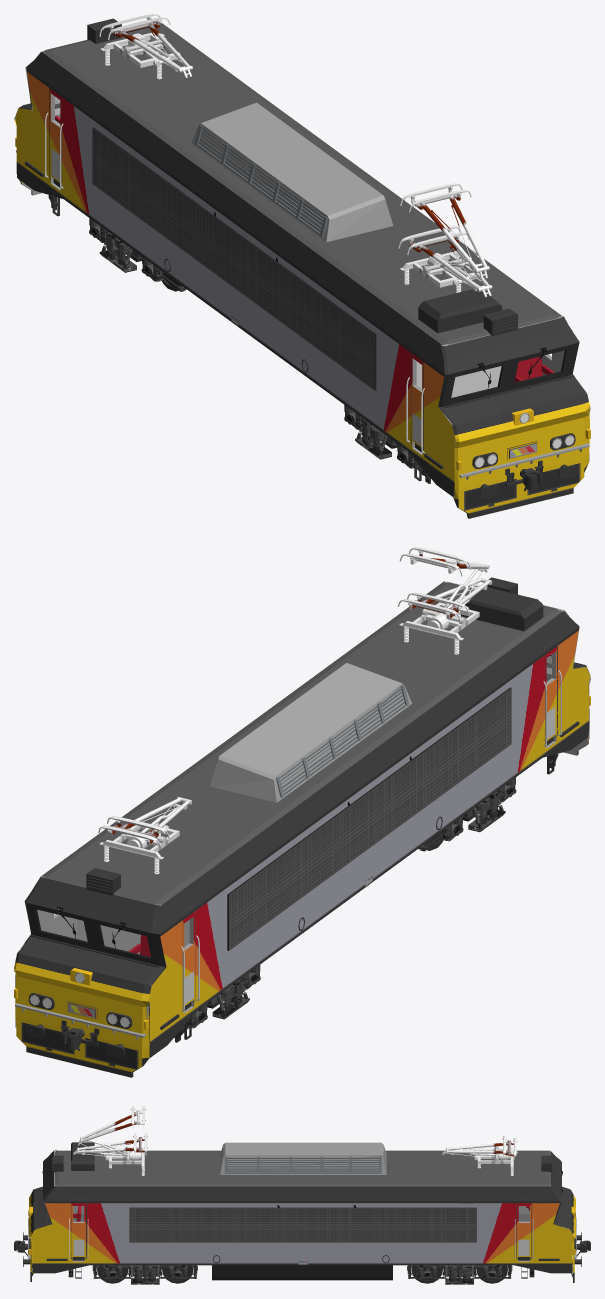
The model's file is mrw_1700.obj.
3 renders of one model, top to bottom at view 1: azimuth 30°, elevation 25°; view 2: azimuth 150°, elevation 25°; view 3: azimuth 270°, elevation 25°, orthographic. The views are drawn at different scales.
Parts seen in each view (by area): view 1: loco_side, loco_jibung, loco_front, loco_frontparts, loco_aircon, loco_DT21, pan_base, loco_pan_side, pan_up_body, loco_bbbalpan, pan_down_body, loco_frontbupums; view 2: loco_side, loco_jibung, loco_front, loco_frontparts, loco_aircon, loco_DT21, pan_base, loco_pan_side, loco_frontbupums, loco_bbbalpan, pan_down_body, pan_up_body; view 3: loco_side, loco_frontparts, loco_jibung, loco_aircon, loco_DT21, loco_badak, loco_front, pan_base, loco_pan_side, pan_up_body, pan_down_body, loco_frontbupums (+1 smaller).
Part boxes in pixels (x1,y1,x2,y2): loco_side: (15,52,589,496); loco_jibung: (42,23,561,397); loco_front: (14,22,590,518); loco_frontparts: (15,112,590,483); loco_aircon: (87,18,517,336); loco_DT21: (89,218,424,475); pan_base: (100,32,478,292); loco_pan_side: (398,226,492,297); pan_up_body: (411,189,489,281); loco_bbbalpan: (55,115,554,460); pan_down_body: (110,19,192,78); loco_frontbupums: (479,460,578,498); loco_side: (14,612,589,1057); loco_jibung: (40,582,562,954); loco_front: (14,581,590,1077); loco_frontparts: (14,663,590,1042); loco_aircon: (86,577,543,895); loco_DT21: (174,777,516,1037); pan_base: (99,602,479,874); loco_pan_side: (398,577,492,621); loco_frontbupums: (25,1020,124,1058); loco_bbbalpan: (66,872,372,1019); pan_down_body: (109,797,192,845); pan_up_body: (410,553,489,613); loco_side: (31,1186,573,1273); loco_frontparts: (28,1170,576,1278); loco_jibung: (54,1150,550,1186); loco_aircon: (52,1142,552,1174); loco_DT21: (92,1265,512,1284); loco_badak: (73,1214,529,1280); loco_front: (29,1149,575,1282); pan_base: (105,1146,513,1175); loco_pan_side: (73,1133,148,1156); pan_up_body: (78,1110,144,1156); pan_down_body: (442,1140,514,1156); loco_frontbupums: (14,1232,590,1266).
Bounding box in the file's own units: 3.23 × 5.74 × 18.64.
